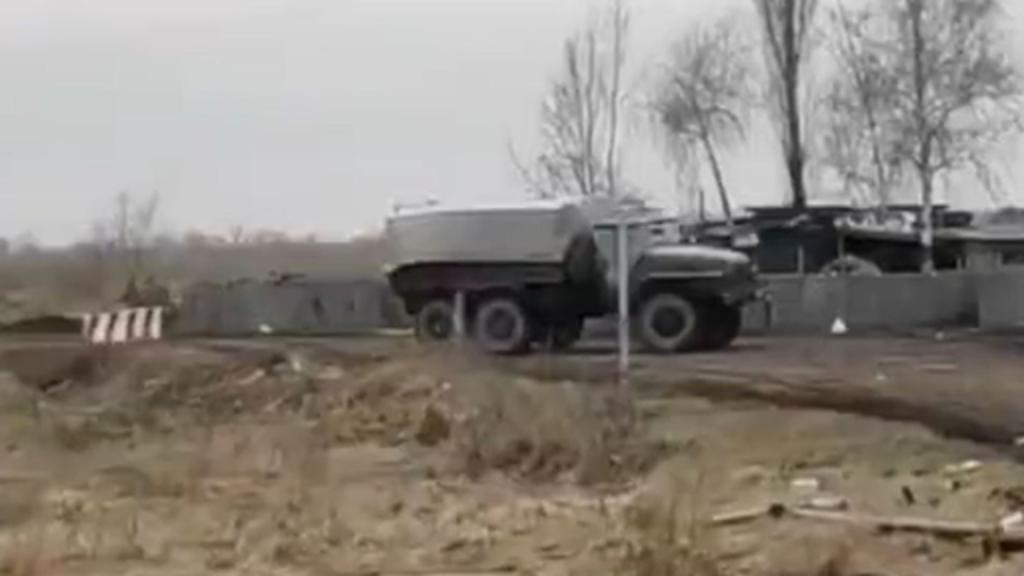TRUCK: (368, 190, 764, 358)
